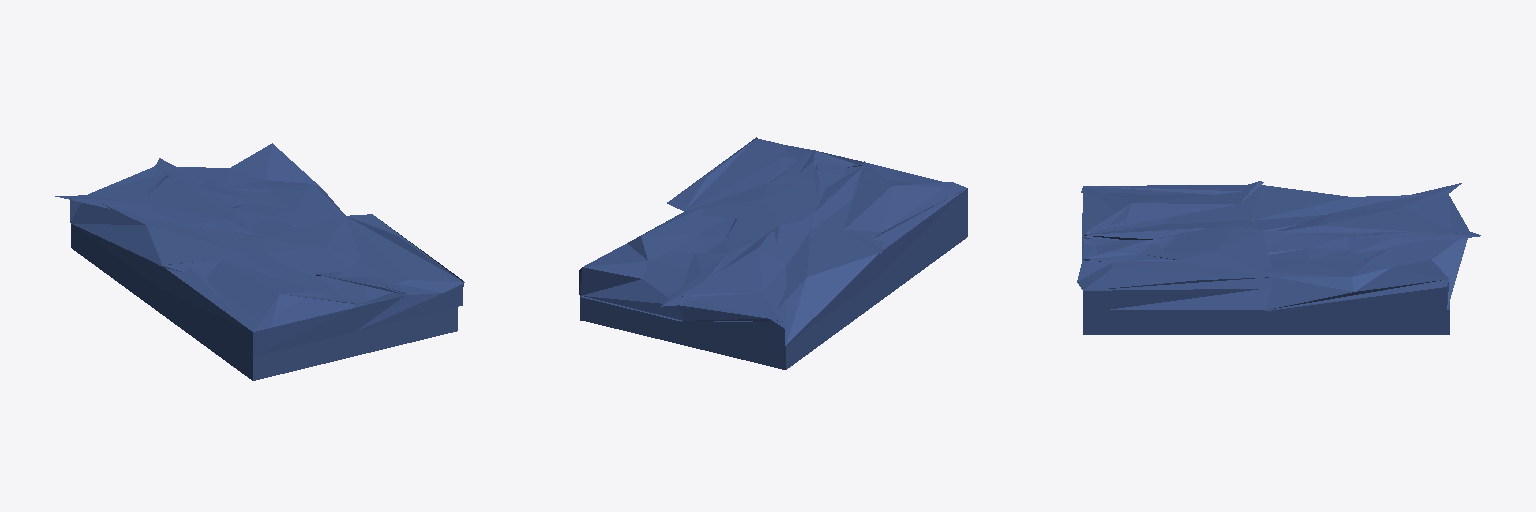
Rendered from pillar_9.obj.
3 views of the same model, side by side, from view 1: azimuth 30°, elevation 25°; view 2: azimuth 150°, elevation 25°; view 3: azimuth 270°, elevation 25° (orthographic).
Visible parts, largest first — view 1: Cube.011_Cube.005; view 2: Cube.011_Cube.005; view 3: Cube.011_Cube.005.
Boxes of the visible parts, x1,y1,x2,y2 form: Cube.011_Cube.005: [55, 143, 464, 380]; Cube.011_Cube.005: [579, 137, 967, 369]; Cube.011_Cube.005: [1077, 181, 1480, 334].
Size of the model in its own units: 1.99 by 0.4912 by 3.18.